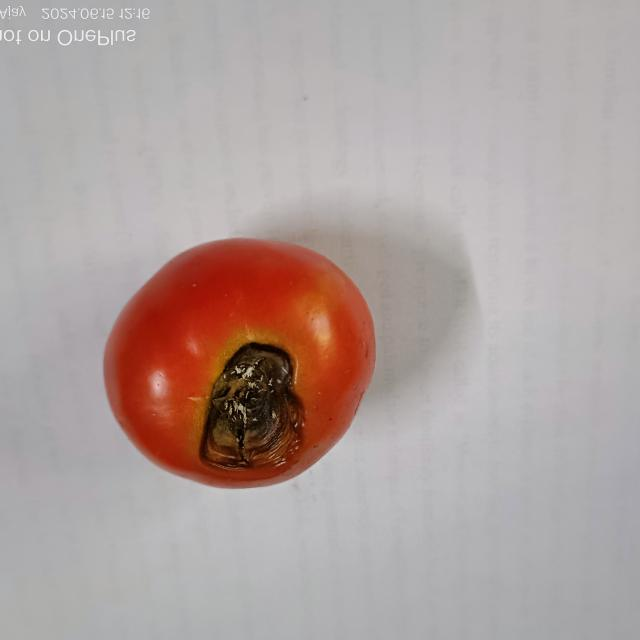Anthrocnose: (197, 341, 307, 481)
